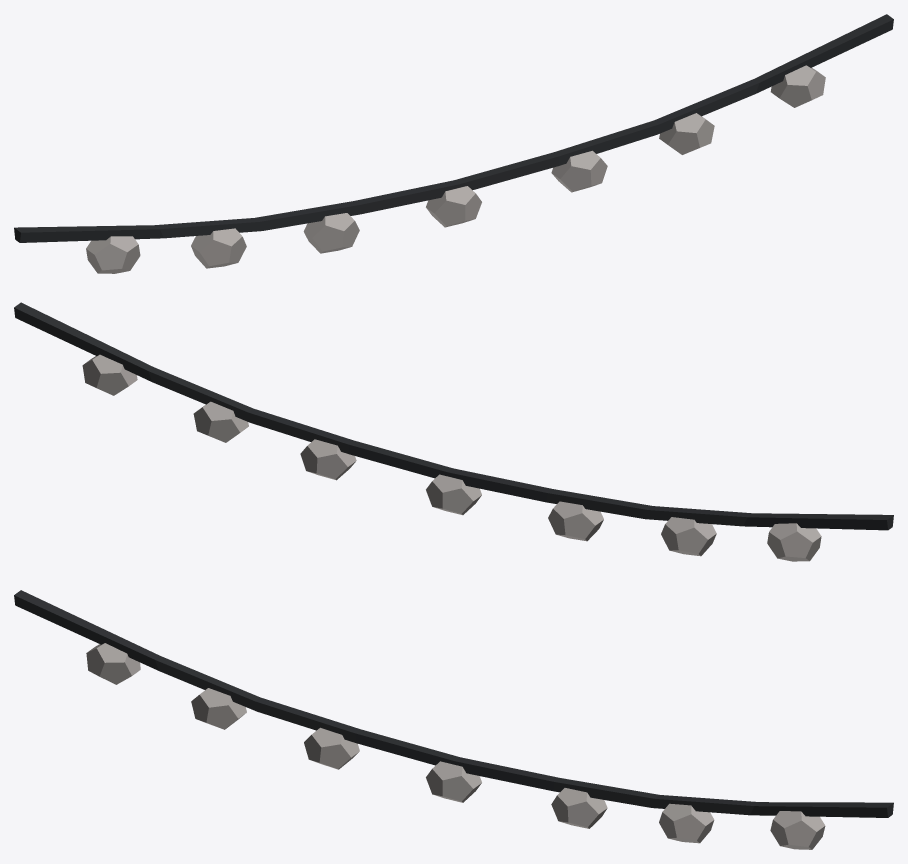
The model's file is SM_Prop_Light_01.fbx.
3 renders of one model, top to bottom at view 1: azimuth 30°, elevation 25°; view 2: azimuth 150°, elevation 25°; view 3: azimuth 330°, elevation 25°, orthographic.
Visible parts, largest first — view 1: SM_Prop_Light_01; view 2: SM_Prop_Light_01; view 3: SM_Prop_Light_01.
Part boxes in pixels (x1,y1,x2,y2): SM_Prop_Light_01: (14, 14, 893, 273); SM_Prop_Light_01: (14, 302, 893, 561); SM_Prop_Light_01: (14, 590, 893, 849).
Bounding box in the file's own units: 249 × 27.76 × 11.3.
